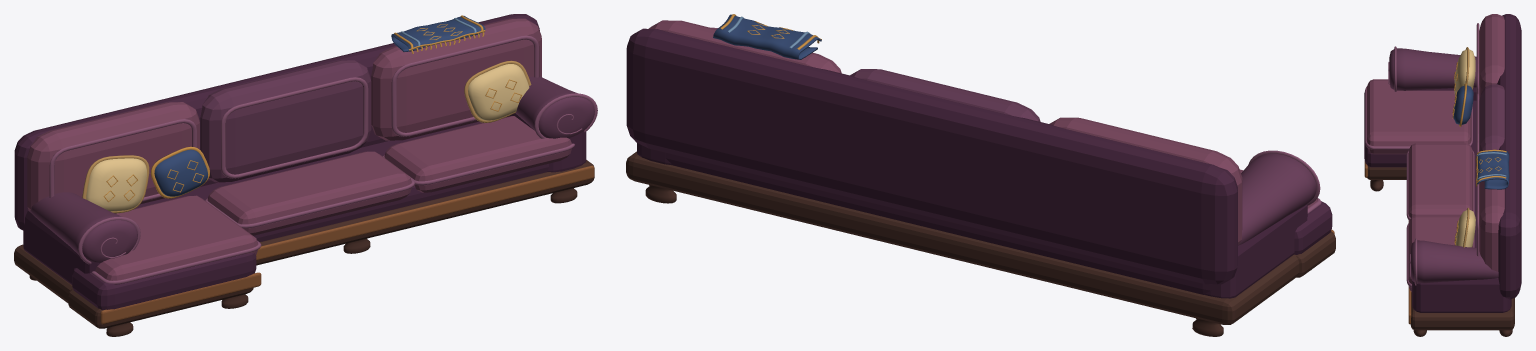
Rendered from living-sofa.glb.
3 renders of one model, left to right at view 1: azimuth 30°, elevation 25°; view 2: azimuth 150°, elevation 25°; view 3: azimuth 270°, elevation 25°, orthographic. The views are drawn at different scales.
Visible parts, largest first — view 1: living_sofa_pivot_Mesh; view 2: living_sofa_pivot_Mesh; view 3: living_sofa_pivot_Mesh.
Part boxes in pixels (left/top/right/bottom): living_sofa_pivot_Mesh: left=14, top=14, right=597, bottom=336; living_sofa_pivot_Mesh: left=626, top=14, right=1335, bottom=336; living_sofa_pivot_Mesh: left=1364, top=14, right=1521, bottom=336.
Bounding box in the file's own units: 5.24 × 1.51 × 1.6.
